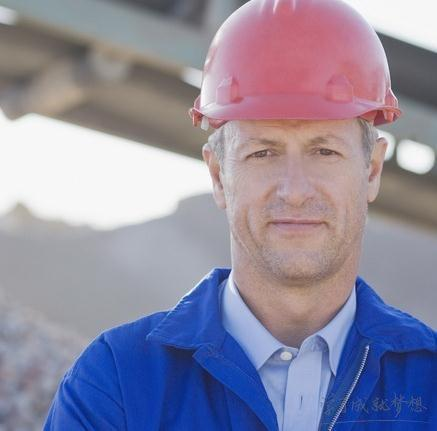helmet: (188, 2, 411, 129)
